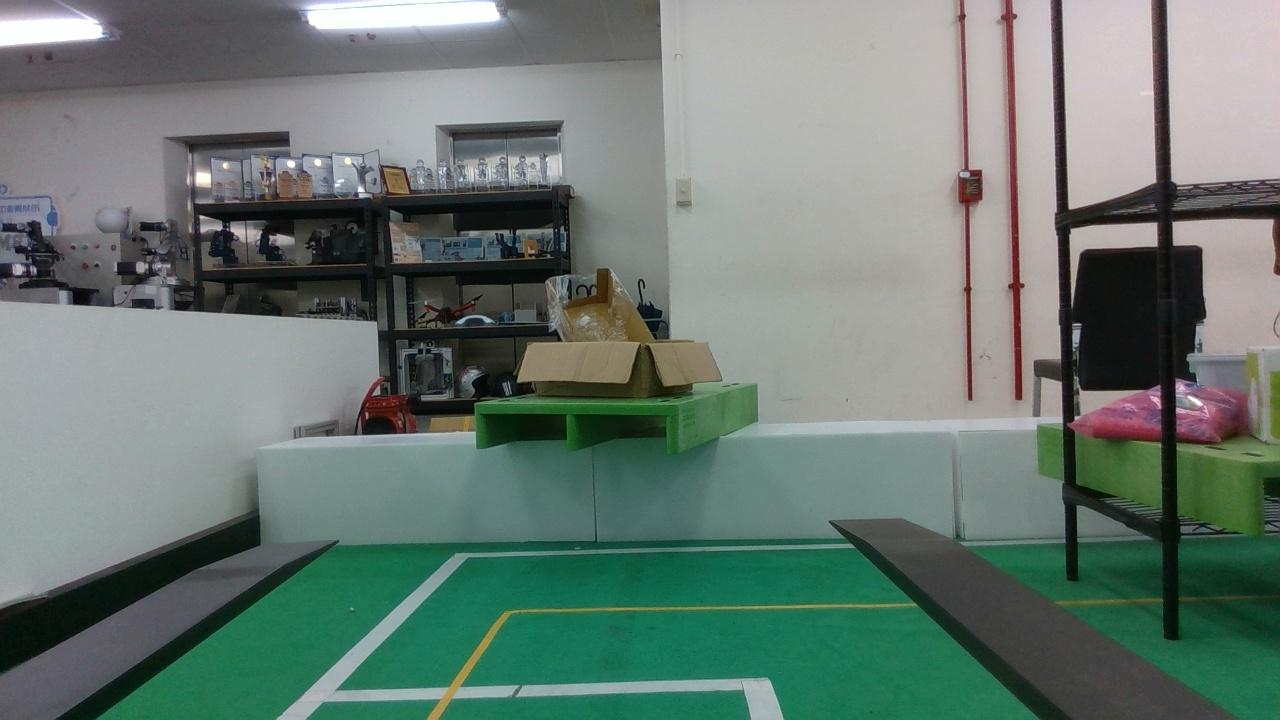Pallet: (470, 404, 687, 458)
